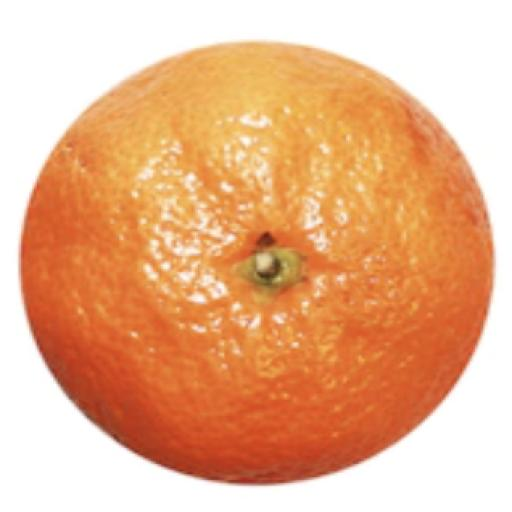orange: (21, 44, 492, 482)
